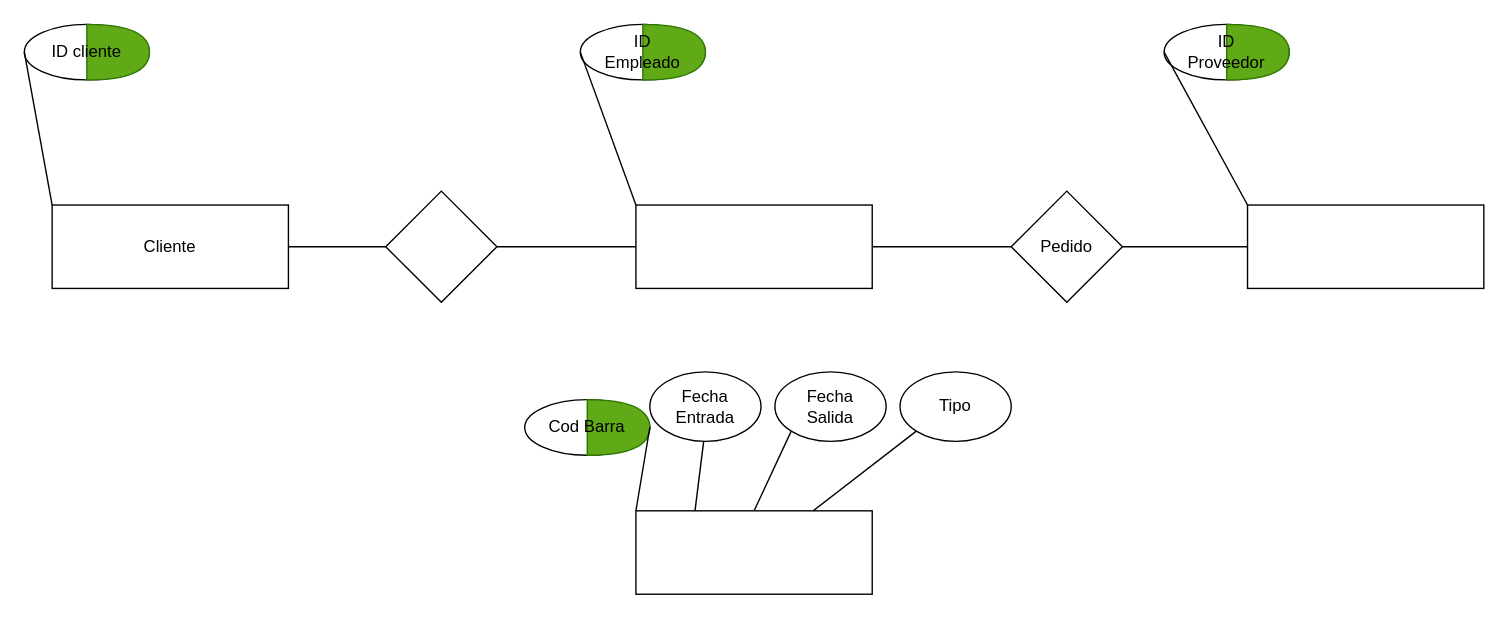
This 1508x619 diagram has some shape labels left out. The box of each missing label's shape, as (x1, y1, x2, y2) in pixels:
Compra: (384, 190, 497, 302)
Empleado: (635, 204, 872, 288)
Producto: (635, 509, 872, 594)
Proveedor: (1246, 204, 1484, 288)
